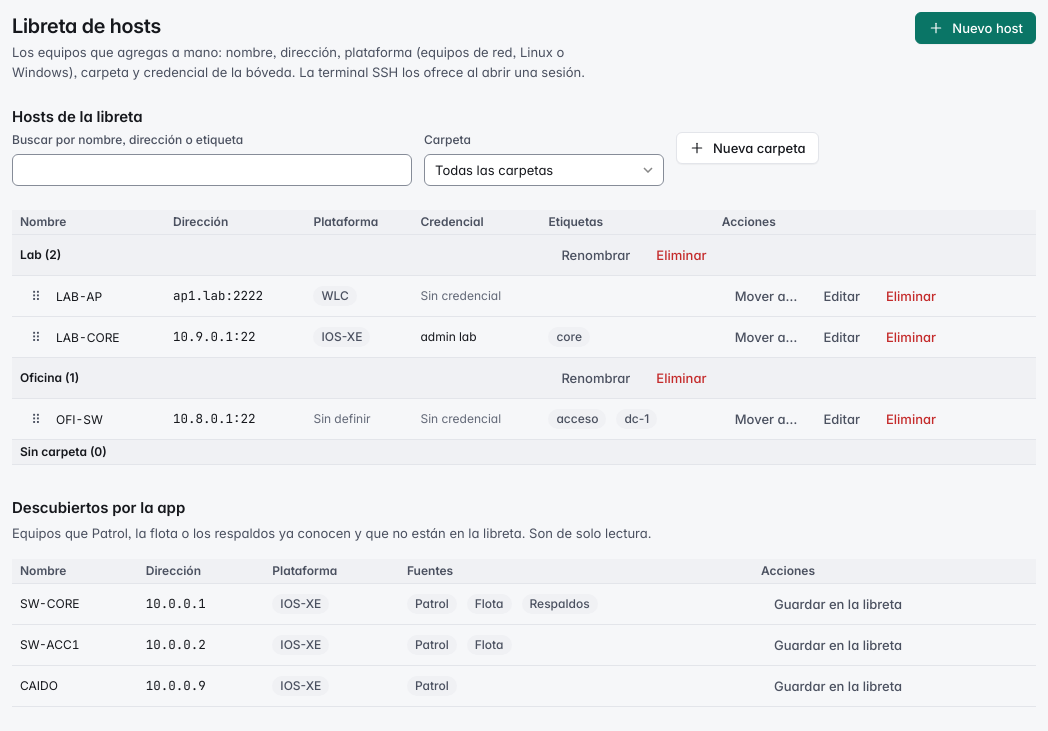
Test: el error del núcleo se marca en el campo y su texto va aparte, como detalle del núcleo
expect the table named "Hosts de la libreta" is shown: met, box [12,210,1036,465]
Click the button "Nuevo host".
click(976, 28)  # box [915,12,1036,44]
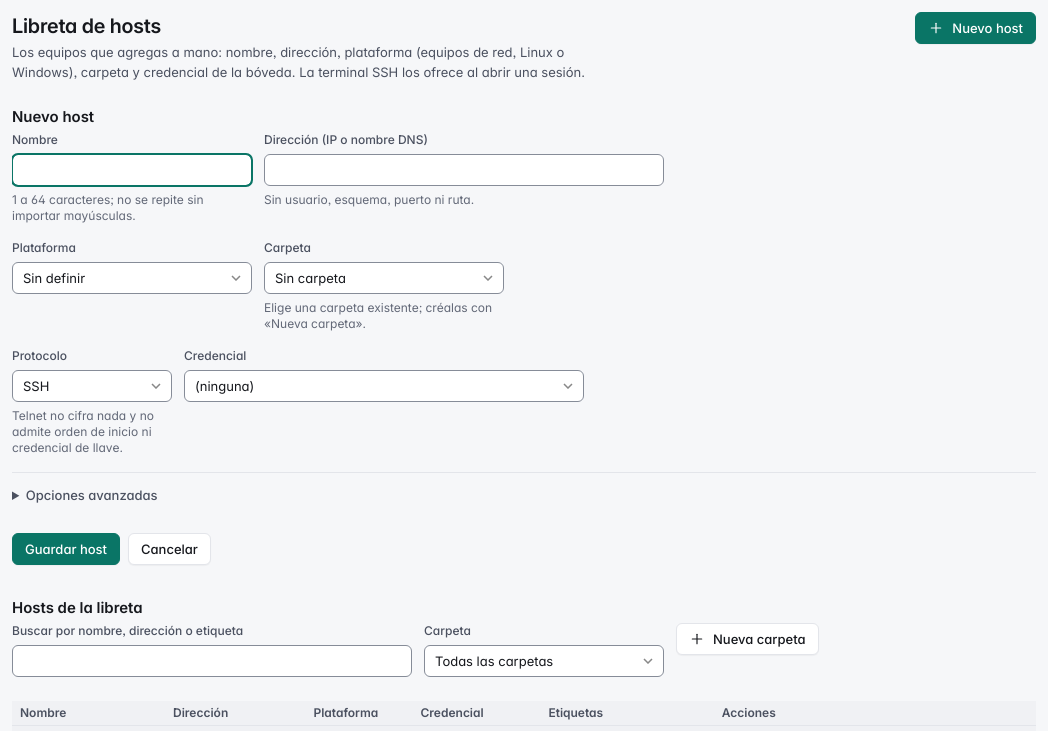
Type "lab-core" into the field labelled "Nombre".
click(132, 170); type("lab-core")  # box [12,154,252,186]
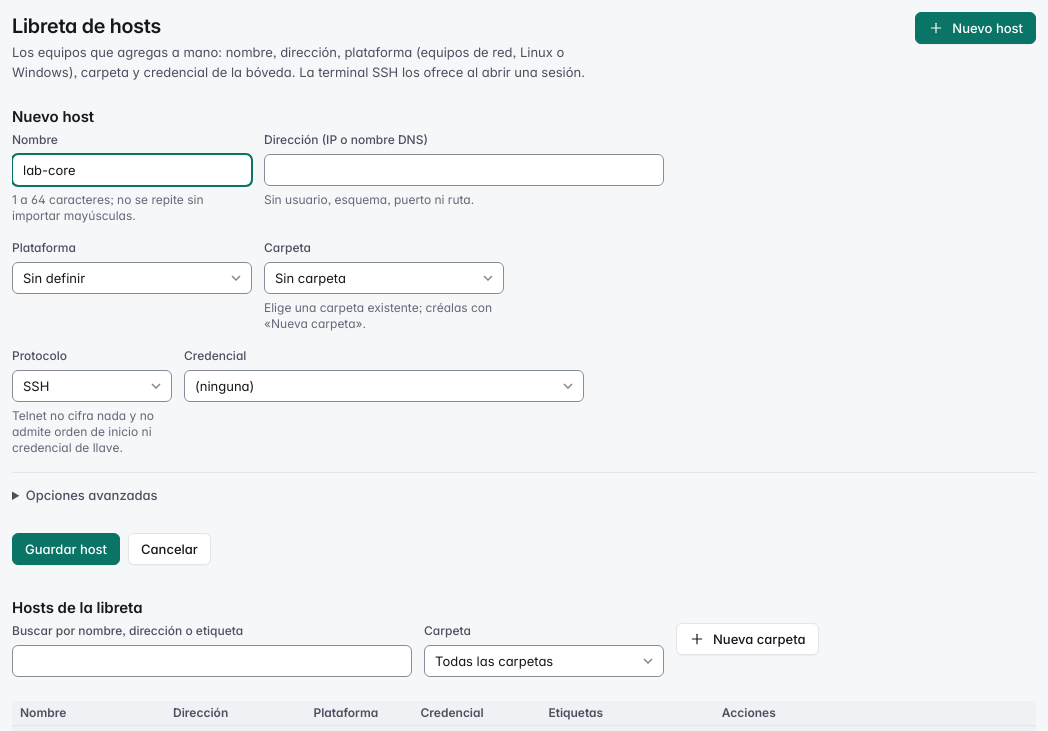
Type "10.0.0.50" into the field labelled "Dirección (IP o nombre DNS)".
click(464, 170); type("10.0.0.50")  # box [264,154,664,186]
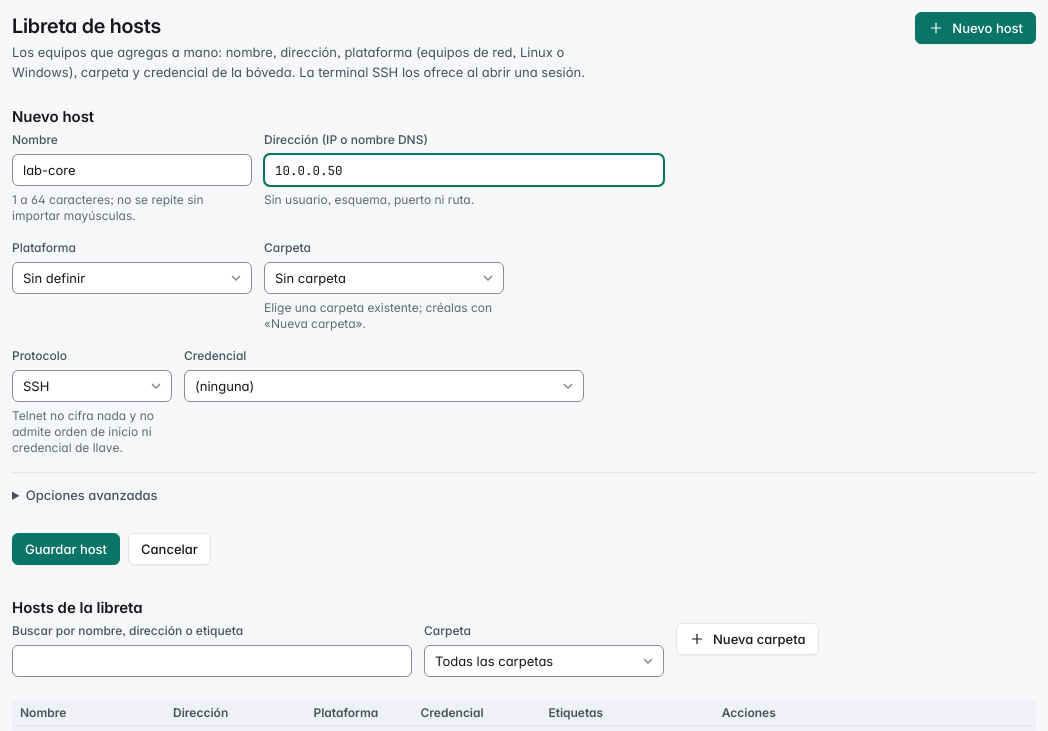
Click the button "Guardar host".
click(66, 549)  # box [12,533,120,565]
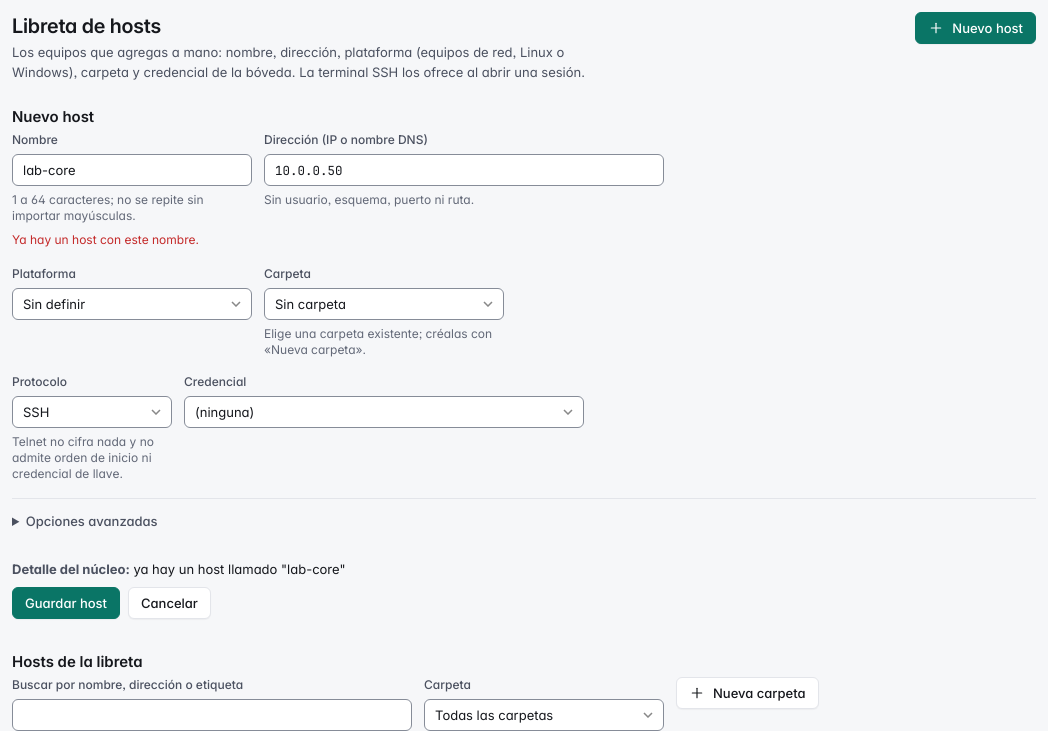
expect the text "Ya hay un host con este nombre." is shown: met, box [12,232,199,247]
expect the text "ya hay un host llamado \"lab-core\"" is shown: met, box [134,561,346,577]
